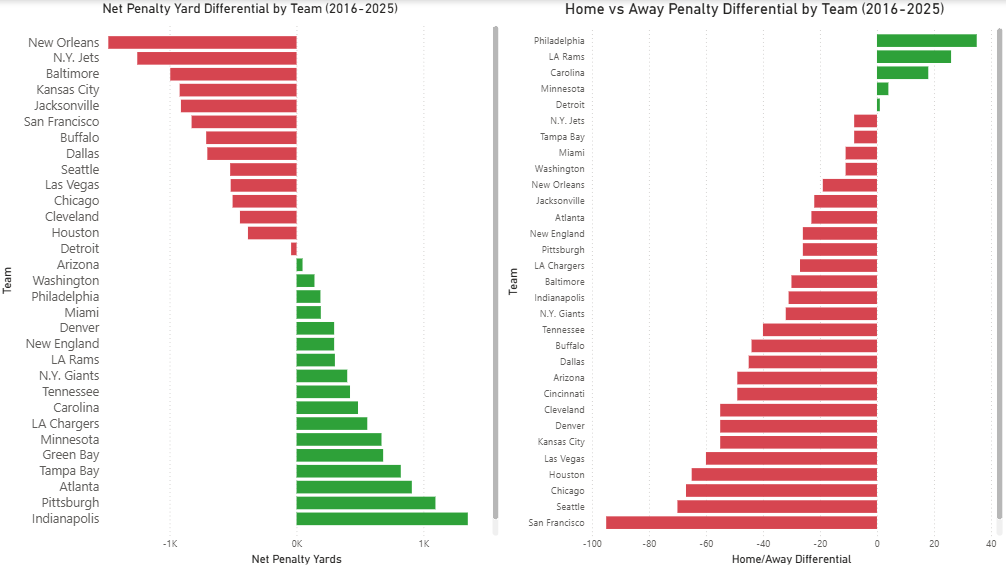

The page's visual inventory and layout, read from the dashboard file:
{"tool":"powerbi","page":{"name":"Team Differentals","canvas":[1280,720],"ordinal":0},"visuals":[{"type":"clusteredBarChart","title":"Net Penalty Yard Differential by Team (2016-2025)","fields":{"Category":["query1_net_differential.Team"],"Y":["Sum(query1_net_differential.total_net_yards)"]},"box":[0,0,640.6,720.5],"z":0},{"type":"clusteredBarChart","title":"Home vs Away Penalty Differential by Team (2016-2025)","fields":{"Category":["query6_home_away.Team"],"Y":["Sum(query6_home_away.home_away_diff)"]},"box":[640.6,0,638.7,720.5],"z":1000}]}

Visuals, with their boxes in screenshot pixels (x1, y1, x2, y2), scaled from the page's 1280x720 canvas onto the 1006x567 screenshot:
"Net Penalty Yard Differential by Team (2016-2025)" clusteredBarChart: box=[0, 0, 503, 566]
"Home vs Away Penalty Differential by Team (2016-2025)" clusteredBarChart: box=[503, 0, 1005, 566]
